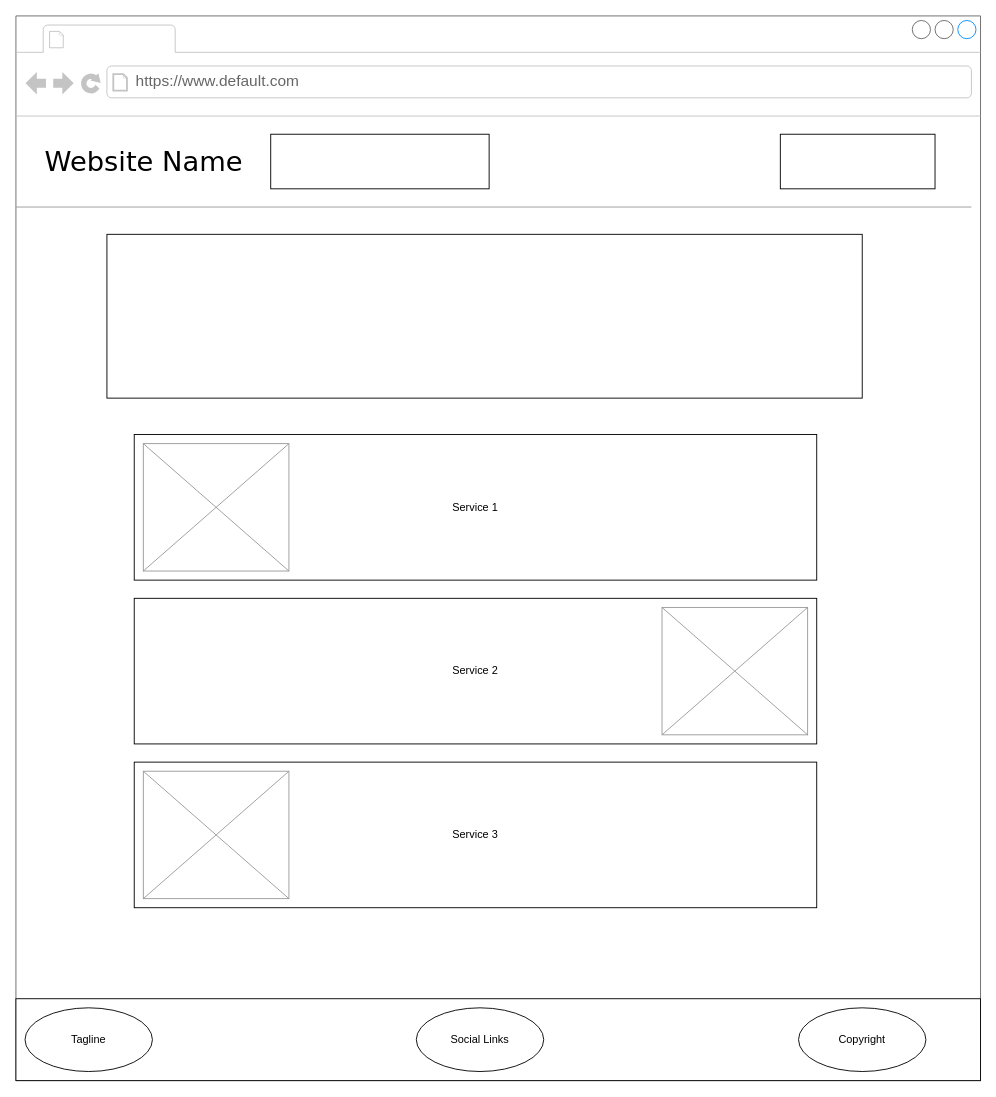
Image size: 996x1097. Some labels were removed from this diagram. Each missing label, with the centre of its shape:
"Login Status" goes at point 857,161.
"Navigation Links" goes at point 379,161.
"Page 1" goes at point 120,38.
"Service information" goes at point 484,315.
